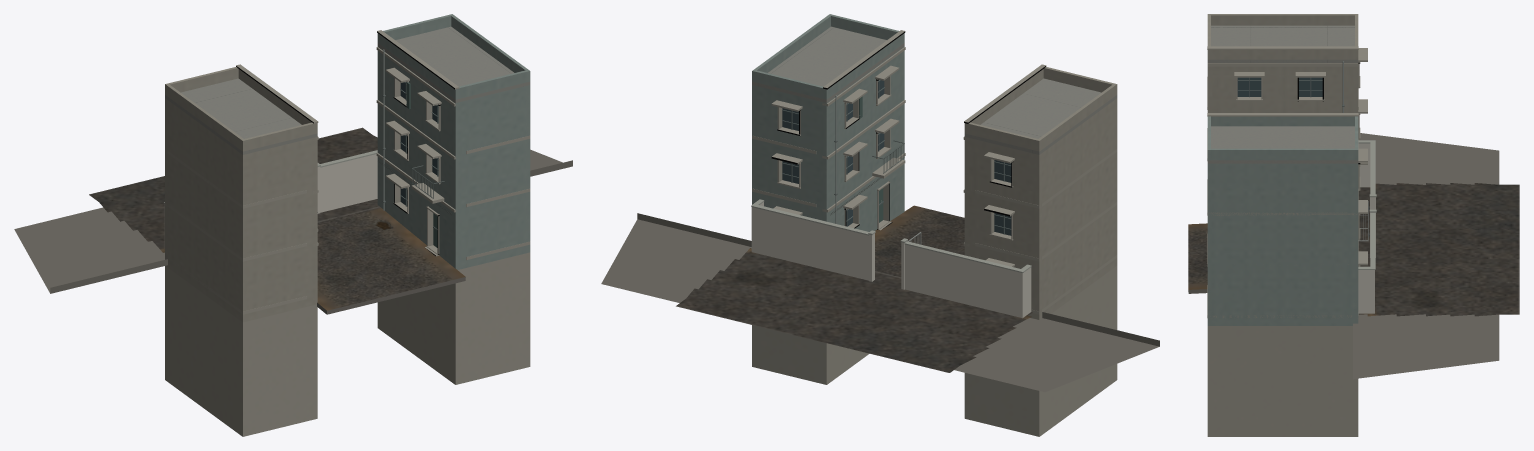
The model's file is contact-frontage.png.glb.
3 renders of one model, left to right at view 1: azimuth 30°, elevation 25°; view 2: azimuth 150°, elevation 25°; view 3: azimuth 270°, elevation 25°, orthographic. The views are drawn at different scales.
Visible parts, largest first — view 1: Runtime / REV15Z / REV15C / left connector house / warm grey, Runtime / REV15Z / REV15C / right connector house / faded bl, Runtime / REV15Z / REV15C / left connector house / mineral c, Runtime / REV15Z / REV15C / right connector house / mineral , Runtime / REV15Z / Rooftop slab / 32m x 40m / asphalt replac, Runtime / REV15Z / Flared ramp apron / asphalt replacement, Runtime / REV15Z / REV15C / left connector house / continuou, Runtime / REV15Z / REV15C / right connector house / continuo, Runtime / REV15Z / ENTRY / Boundary walls flanking the narro; view 2: Runtime / REV15Z / Rooftop slab / 32m x 40m / asphalt replac, Runtime / REV15Z / REV15C / left connector house / warm grey, Runtime / REV15Z / REV15C / right connector house / faded bl, Runtime / REV15Z / ENTRY / Boundary walls flanking the narro, Runtime / REV15Z / REV15C / left connector house / mineral c, Runtime / REV15Z / REV15C / right connector house / mineral , Runtime / REV15Z / REV15C / left connector house / continuou, Runtime / REV15Z / REV15C / right connector house / continuo, Runtime / REV15Z / Flared ramp apron / asphalt replacement, Runtime / REV15Z / REV15C / right connector house / dusty no, Runtime / REV15Z / ENTRY / Concrete coping and pier caps, Runtime / REV15Z / REV15C / left connector house / dusty non; view 3: Runtime / REV15Z / Rooftop slab / 32m x 40m / asphalt replac, Runtime / REV15Z / REV15C / right connector house / faded bl, Runtime / REV15Z / REV15C / right connector house / mineral , Runtime / REV15Z / REV15C / left connector house / warm grey, Runtime / REV15Z / REV15C / right connector house / continuo, Runtime / REV15Z / REV15C / left connector house / continuou, Runtime / REV15Z / REV15C / left connector house / mineral c, Runtime / REV15Z / Flared ramp apron / asphalt replacement, Runtime / REV15Z / ENTRY / Boundary walls flanking the narro, Runtime / REV15Z / REV15C / left connector house / dusty non, Runtime / REV15Z / ENTRY / Concrete coping and pier caps.
Boxes of the visible parts, box(x1,y1,x2,y2) form: Runtime / REV15Z / REV15C / left connector house / warm grey: box(165, 67, 317, 322); Runtime / REV15Z / REV15C / right connector house / faded bl: box(377, 14, 530, 269); Runtime / REV15Z / REV15C / left connector house / mineral c: box(165, 64, 318, 436); Runtime / REV15Z / REV15C / right connector house / mineral : box(376, 30, 530, 384); Runtime / REV15Z / Rooftop slab / 32m x 40m / asphalt replac: box(14, 127, 572, 293); Runtime / REV15Z / Flared ramp apron / asphalt replacement: box(317, 207, 465, 314); Runtime / REV15Z / REV15C / left connector house / continuou: box(165, 78, 317, 154); Runtime / REV15Z / REV15C / right connector house / continuo: box(377, 26, 530, 102); Runtime / REV15Z / ENTRY / Boundary walls flanking the narro: box(164, 154, 377, 248); Runtime / REV15Z / Rooftop slab / 32m x 40m / asphalt replac: box(601, 213, 1159, 392); Runtime / REV15Z / REV15C / left connector house / warm grey: box(964, 67, 1117, 319); Runtime / REV15Z / REV15C / right connector house / faded bl: box(752, 14, 904, 231); Runtime / REV15Z / ENTRY / Boundary walls flanking the narro: box(751, 202, 1031, 318); Runtime / REV15Z / REV15C / left connector house / mineral c: box(963, 64, 1117, 436); Runtime / REV15Z / REV15C / right connector house / mineral : box(752, 30, 905, 384); Runtime / REV15Z / REV15C / left connector house / continuou: box(964, 78, 1117, 154); Runtime / REV15Z / REV15C / right connector house / continuo: box(752, 26, 904, 102); Runtime / REV15Z / Flared ramp apron / asphalt replacement: box(875, 205, 964, 277); Runtime / REV15Z / REV15C / right connector house / dusty no: box(782, 80, 884, 226); Runtime / REV15Z / ENTRY / Concrete coping and pier caps: box(751, 199, 1031, 272); Runtime / REV15Z / REV15C / left connector house / dusty non: box(994, 160, 1011, 235); Runtime / REV15Z / Rooftop slab / 32m x 40m / asphalt replac: box(1353, 133, 1519, 379); Runtime / REV15Z / REV15C / right connector house / faded bl: box(1207, 116, 1358, 325); Runtime / REV15Z / REV15C / right connector house / mineral : box(1207, 113, 1367, 436); Runtime / REV15Z / REV15C / left connector house / warm grey: box(1207, 14, 1358, 112); Runtime / REV15Z / REV15C / right connector house / continuo: box(1207, 126, 1358, 163); Runtime / REV15Z / REV15C / left connector house / continuou: box(1207, 25, 1358, 62); Runtime / REV15Z / REV15C / left connector house / mineral c: box(1207, 46, 1367, 190); Runtime / REV15Z / Flared ramp apron / asphalt replacement: box(1188, 223, 1207, 293); Runtime / REV15Z / ENTRY / Boundary walls flanking the narro: box(1358, 143, 1374, 313); Runtime / REV15Z / REV15C / left connector house / dusty non: box(1237, 77, 1322, 96); Runtime / REV15Z / ENTRY / Concrete coping and pier caps: box(1358, 140, 1376, 269).
Bounding box in the file's own units: 32 × 17.39 × 18.12.
Materials: 18 (7 with a texture image).
